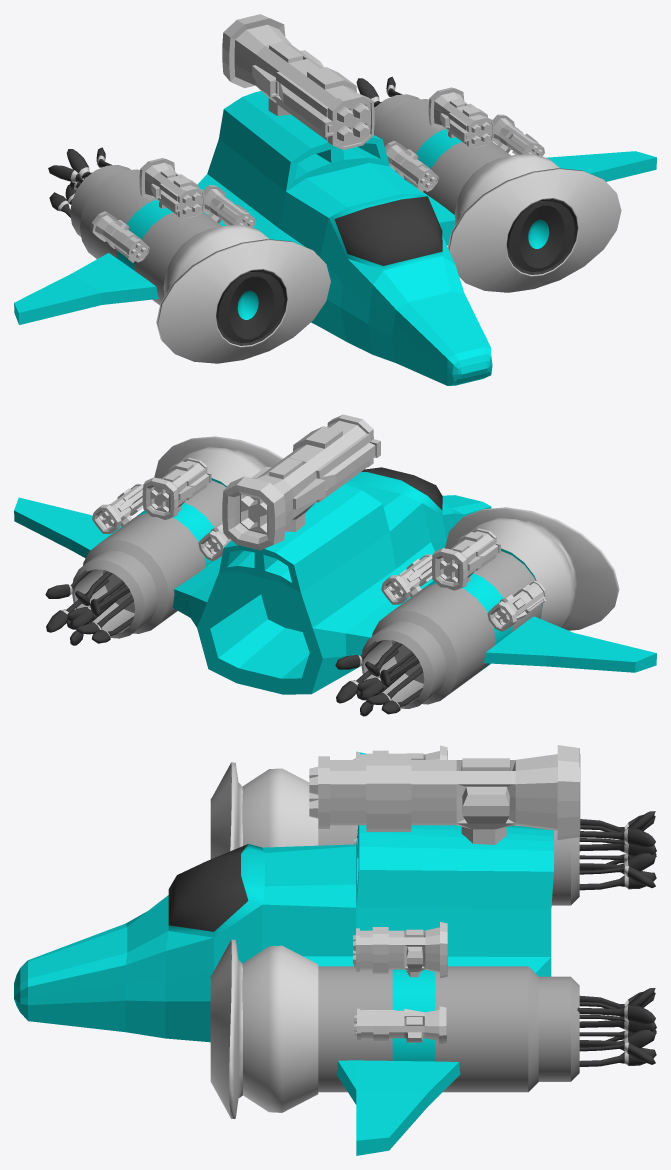
The model's file is bot9.fbx.
The picture shows the model from 3 angles, top to bottom: view 1: azimuth 30°, elevation 25°; view 2: azimuth 150°, elevation 25°; view 3: azimuth 270°, elevation 25°; orthographic projection. The views are drawn at different scales.
Visible parts, largest first — view 1: polySurface5368; view 2: polySurface5368; view 3: polySurface5368.
Part boxes in pixels (x1=…): polySurface5368: x1=14, y1=14, x2=656, y2=385; polySurface5368: x1=14, y1=414, x2=656, y2=716; polySurface5368: x1=14, y1=745, x2=656, y2=1155.
Bounding box in the file's own units: 399 × 129 × 278.
